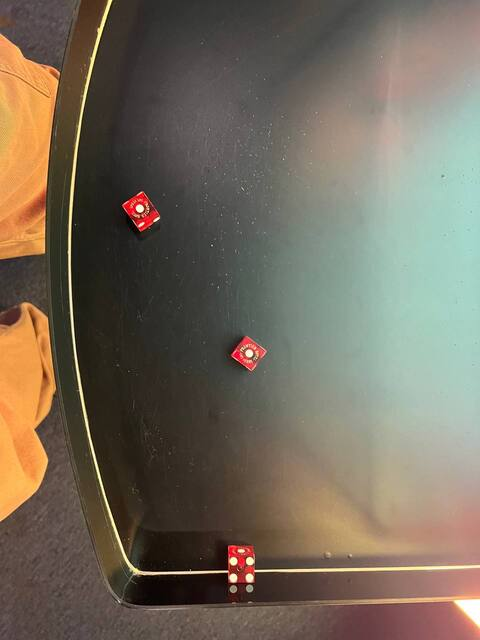four: (222, 552, 259, 589)
one: (229, 333, 268, 371), (122, 191, 159, 227)
